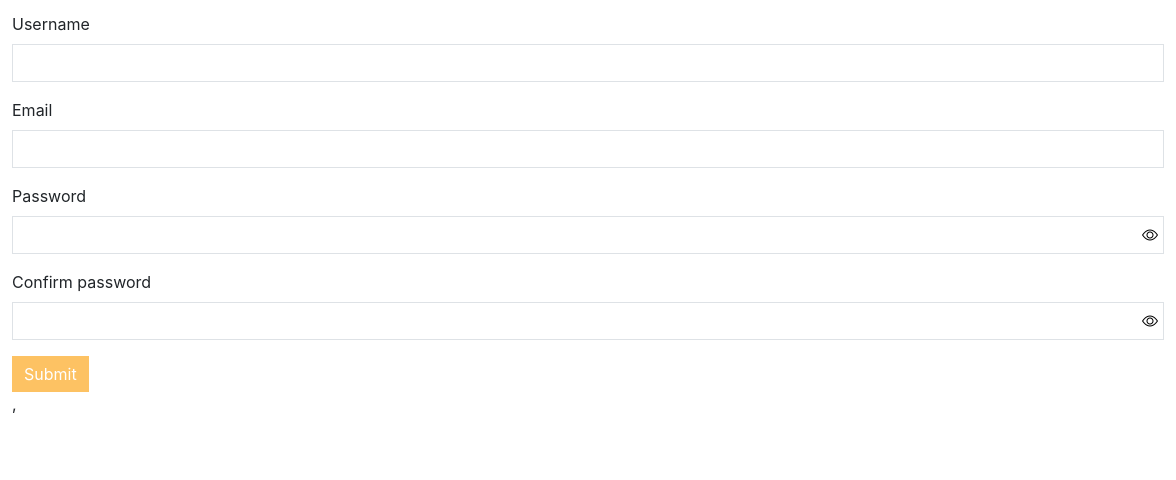
Test: Register Form › should display an error message for a username longer than 16 characters
Type "UserName1UserName1" into the field labelled "Username" at (588, 63), box left=12, top=44, right=1164, bottom=82
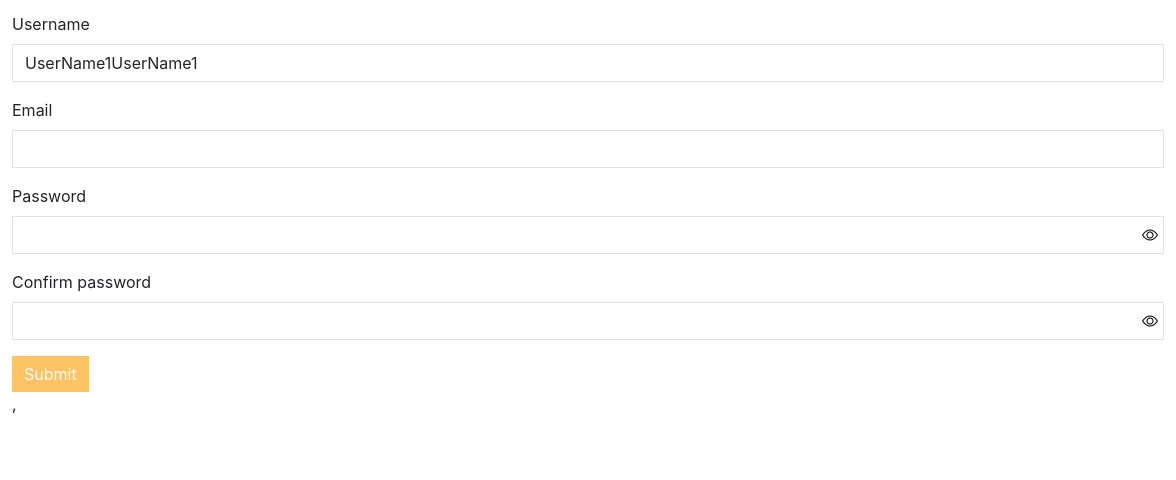
Type "a@a.pl" into the field labelled "Email" at (588, 149), box left=12, top=130, right=1164, bottom=168
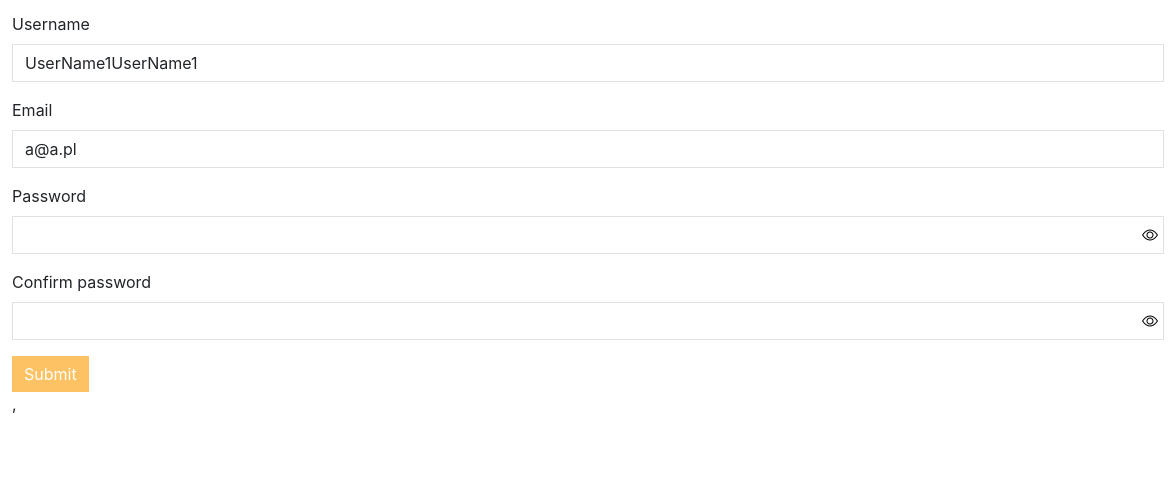
Type "Pa$$w0rd" into the password field labelled "Password" at (588, 235), box left=12, top=216, right=1164, bottom=254
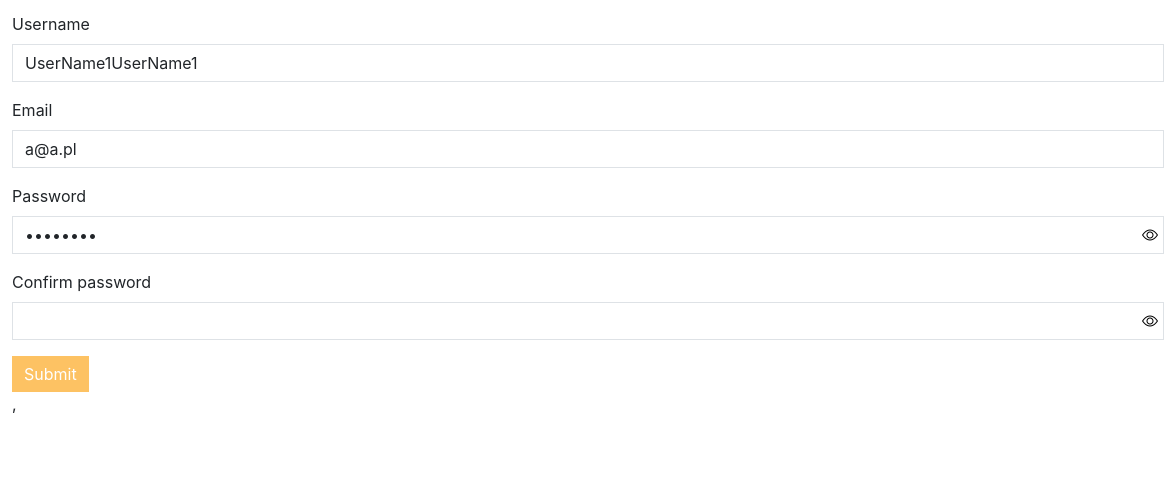
Type "Pa$$w0rd" into the password field labelled "Confirm password" at (588, 321), box left=12, top=302, right=1164, bottom=340
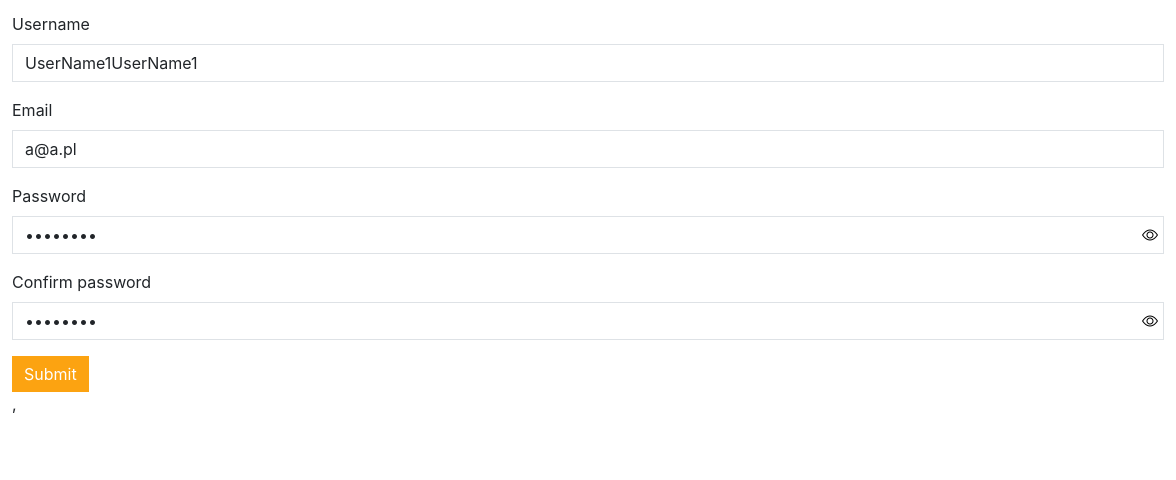
Click the button "Submit" at (50, 374), box left=12, top=356, right=89, bottom=392
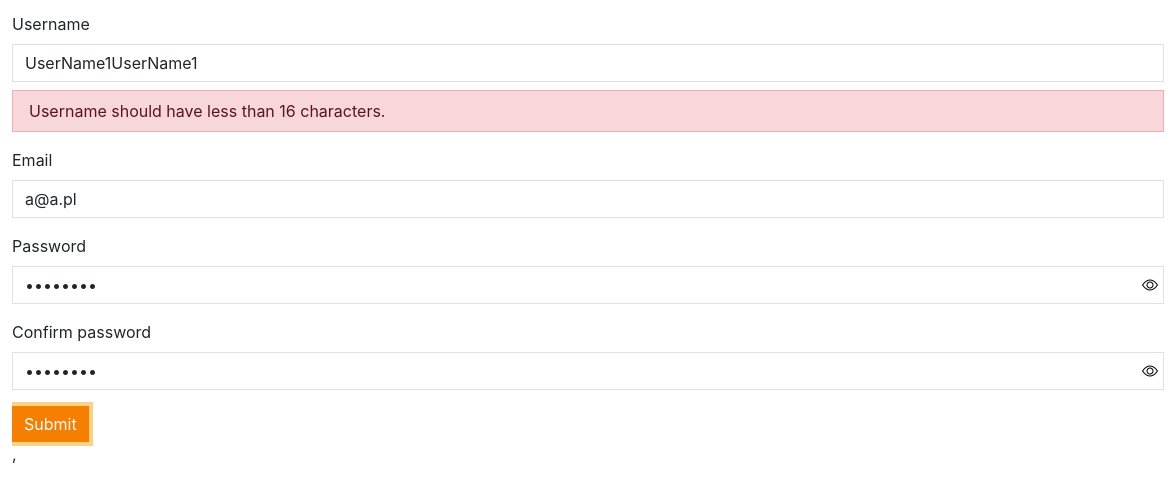
Now the text "Username should have less than 16 characters." is shown, box left=12, top=90, right=1164, bottom=132
